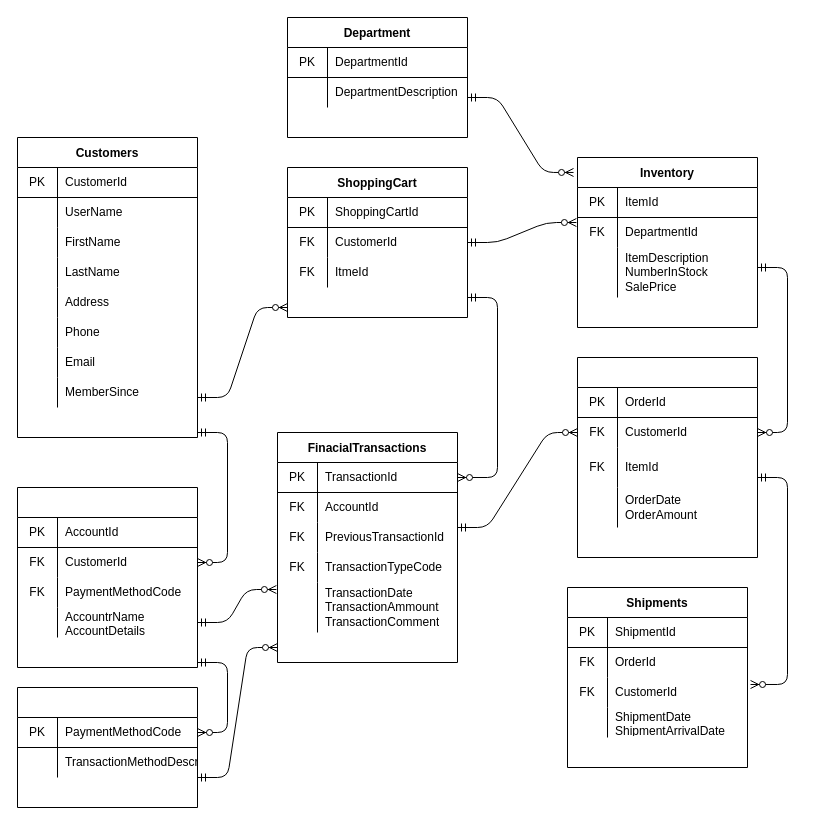
Some shapes in this 814 by 825 pixel diagram are drawn without their labels. Each missing label, with the box of its shape:
Accounts: (16, 486, 198, 668)
Orders: (576, 356, 758, 558)
PaymentMethods: (16, 686, 198, 808)
